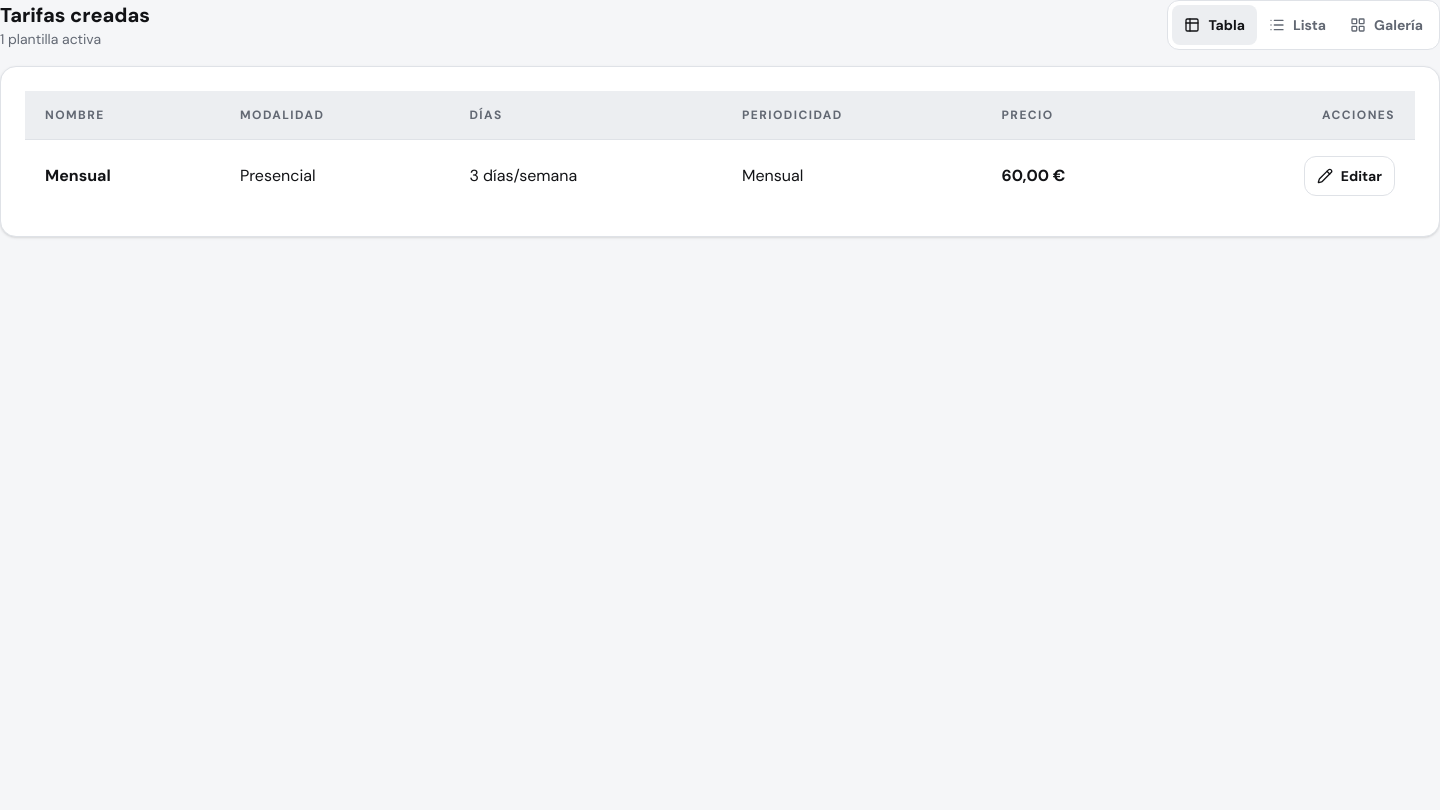
PricingPlansCatalog › abre la edición compartida desde cualquier vista
Click the button with aria-label "Editar Mensual, Presencial" at (1349, 176), box [1304,156,1395,196]
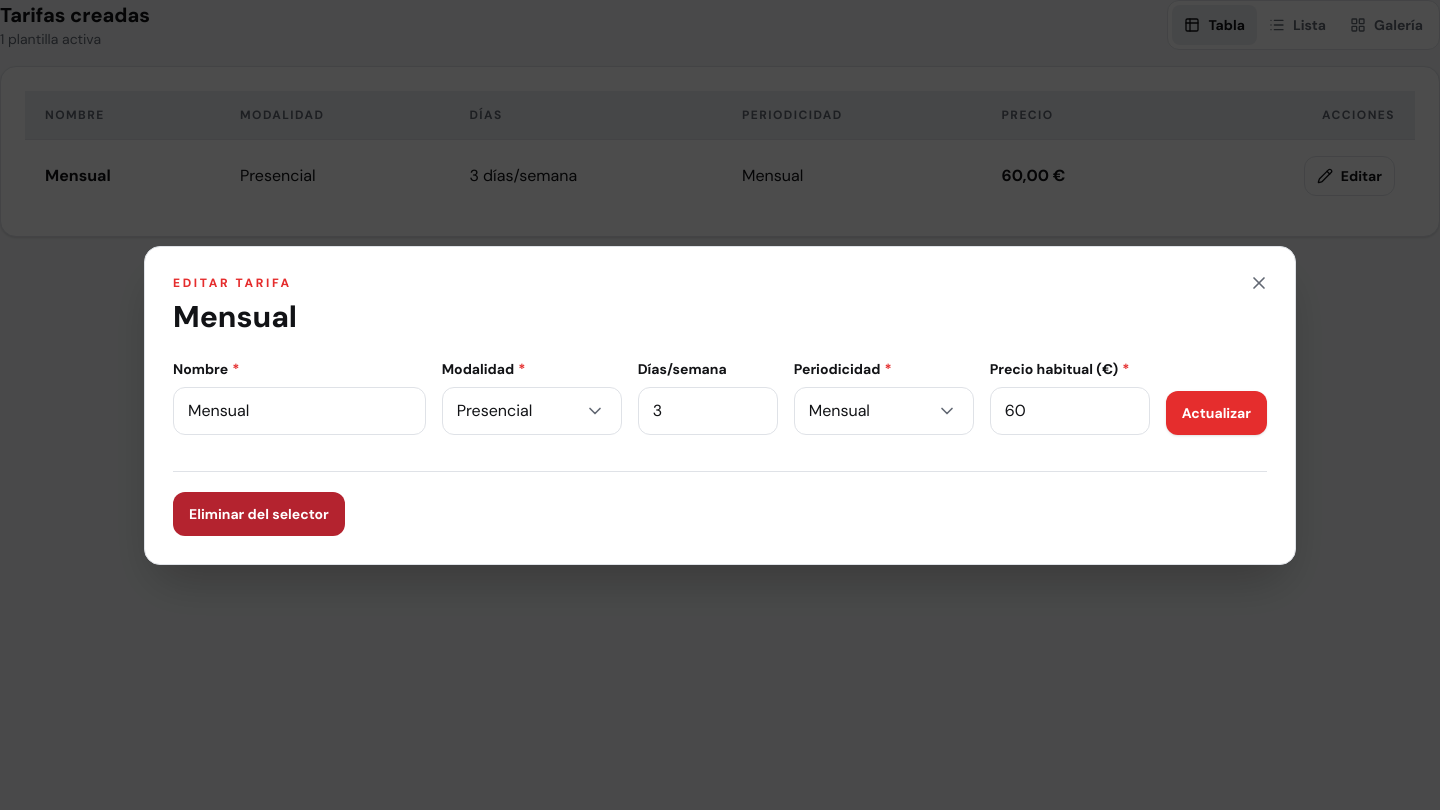
Expected: the dialog "Mensual" is shown, [144,246,1296,564]
Expected: the dropdown named "Modalidad de la tarifa" reads "Presencial", [442,386,622,434]
Click the button named "Cerrar edición de tarifa" at (1259, 282), box [1239,262,1279,302]
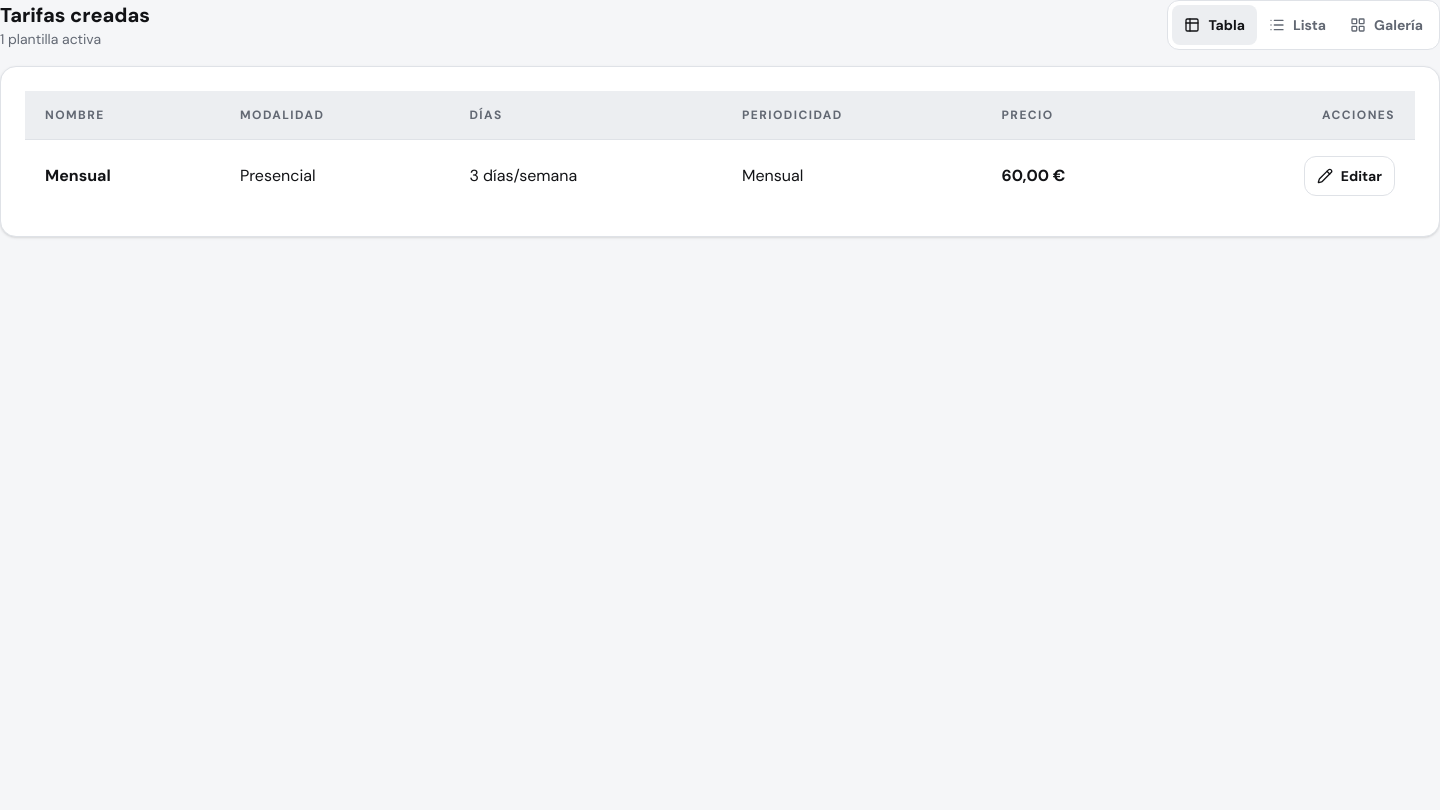
Expected: the dialog is gone
